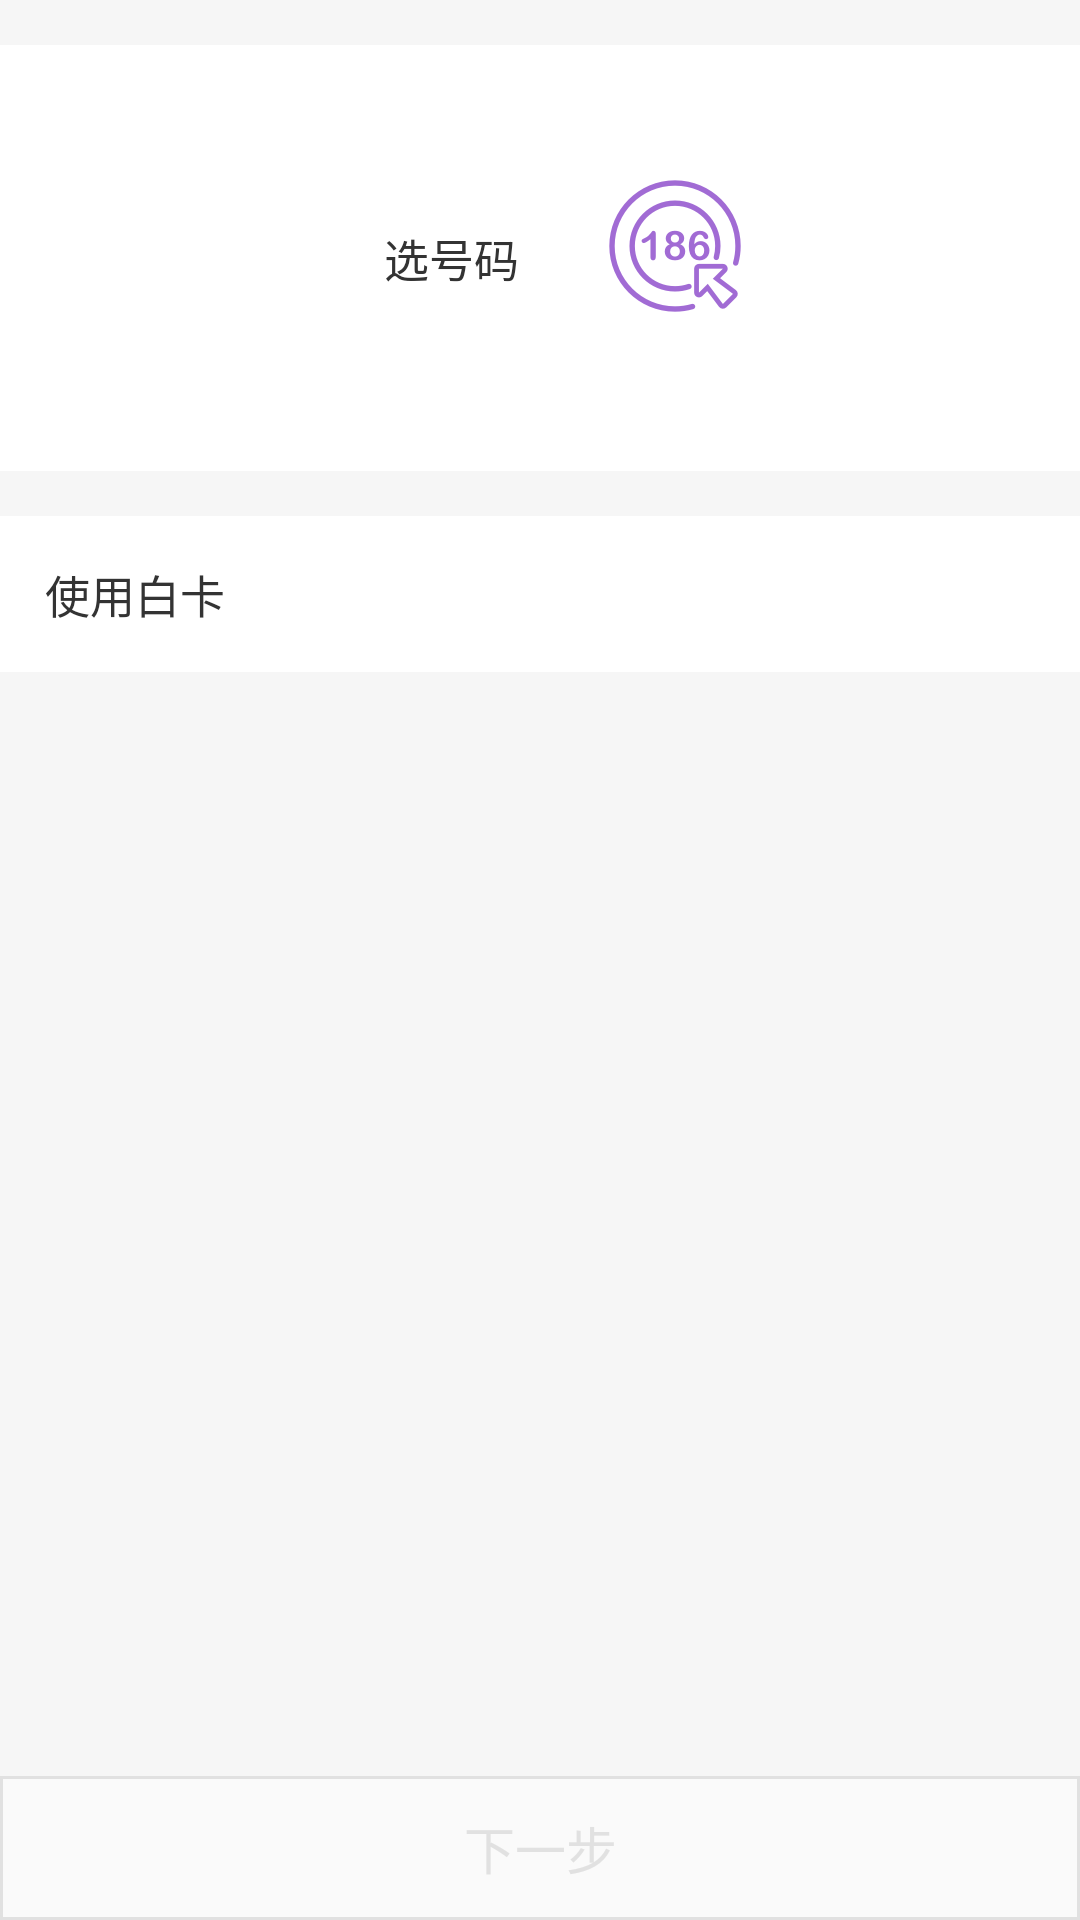

Screen size 1080 x 1920. Icon name, then its box in pixels as (x1, y1, x2, y2):
select num: (609, 180, 741, 312)
